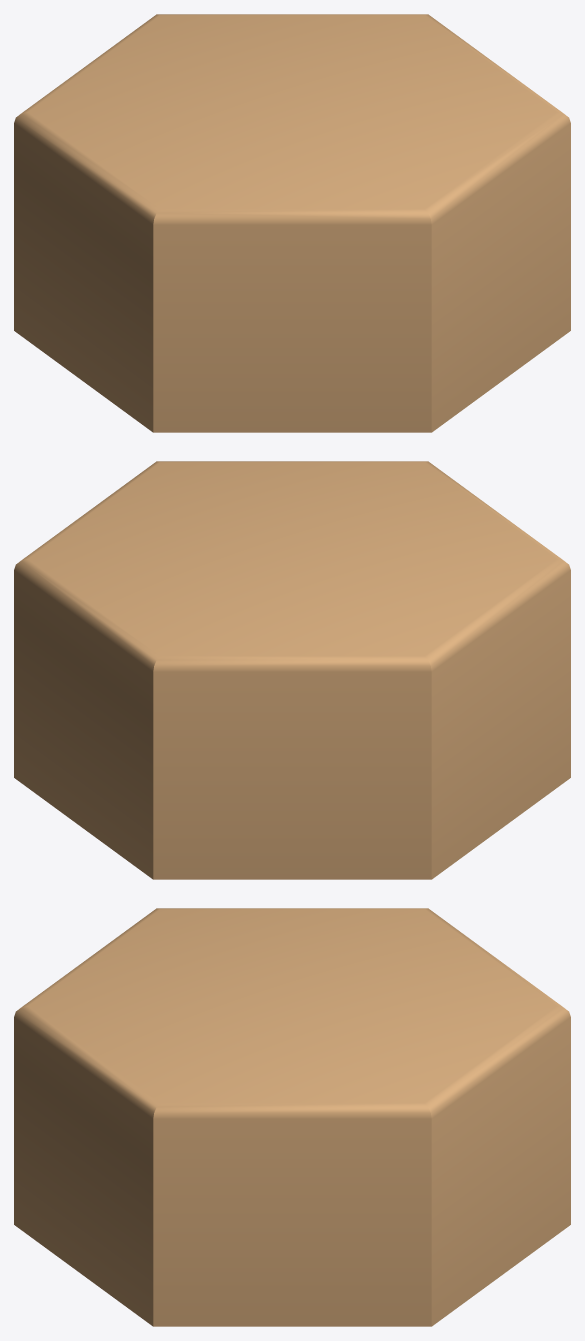
The model's file is hex_sand.glb.
3 renders of one model, top to bottom at view 1: azimuth 30°, elevation 25°; view 2: azimuth 150°, elevation 25°; view 3: azimuth 270°, elevation 25°, orthographic.
Visible parts, largest first — view 1: hex_sand; view 2: hex_sand; view 3: hex_sand.
Part boxes in pixels (<box>): hex_sand: <box>14,14,570,432</box>; hex_sand: <box>14,461,570,879</box>; hex_sand: <box>14,908,570,1326</box>.
Size of the model in its own units: 2 by 1 by 2.31.
